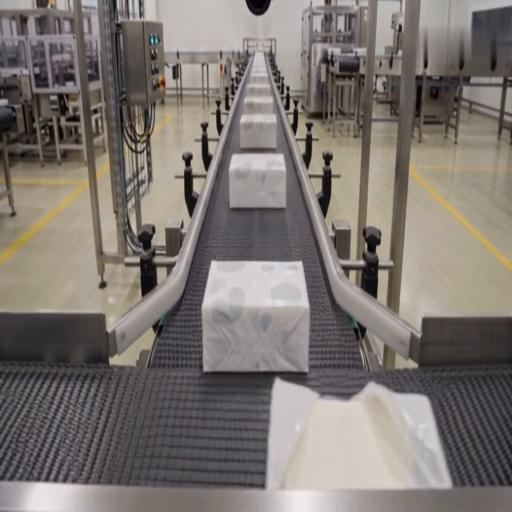defective: (269, 375, 449, 491)
good: (202, 259, 310, 374), (228, 152, 286, 211), (238, 113, 278, 152), (242, 95, 274, 115), (244, 82, 272, 98), (249, 51, 270, 72), (247, 71, 271, 85)
